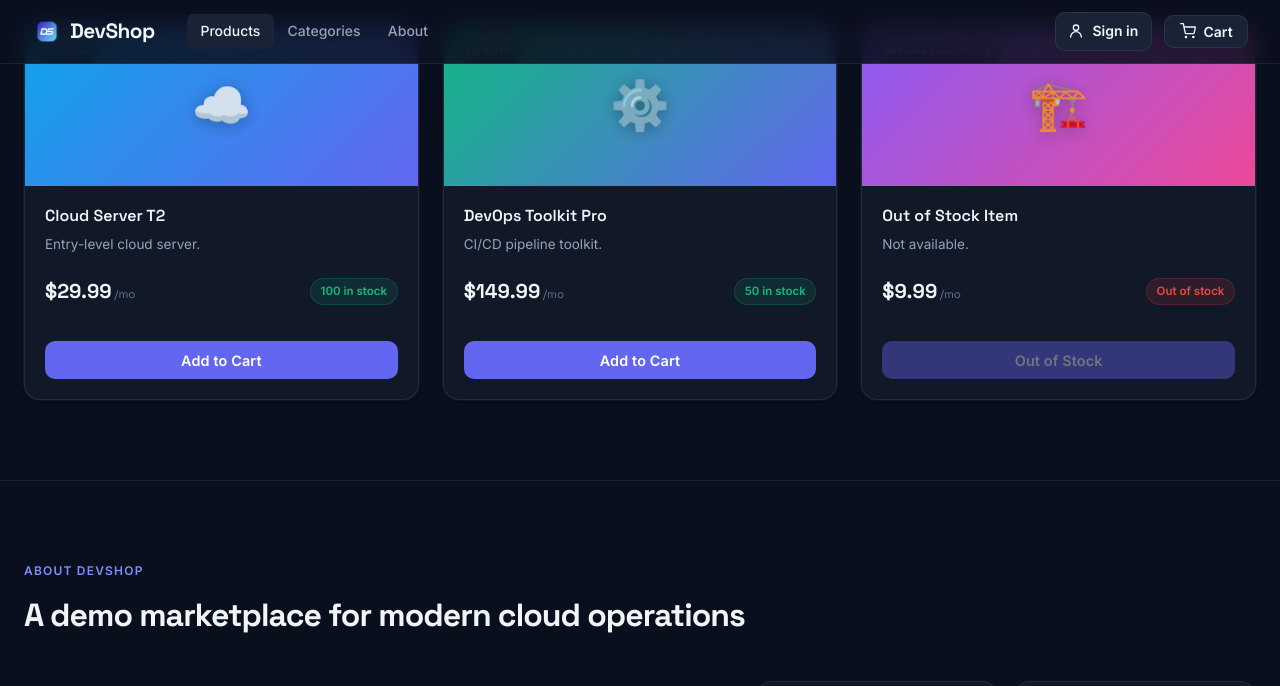
Shopping cart › adds a product to cart and shows count in badge
(page scrolled)
Expected: the heading "Cloud Server T2" is shown, 45,204 -> 165,226
Click the button "Add to Cart" below "29.99" at (221,360), box 45,341 -> 398,380
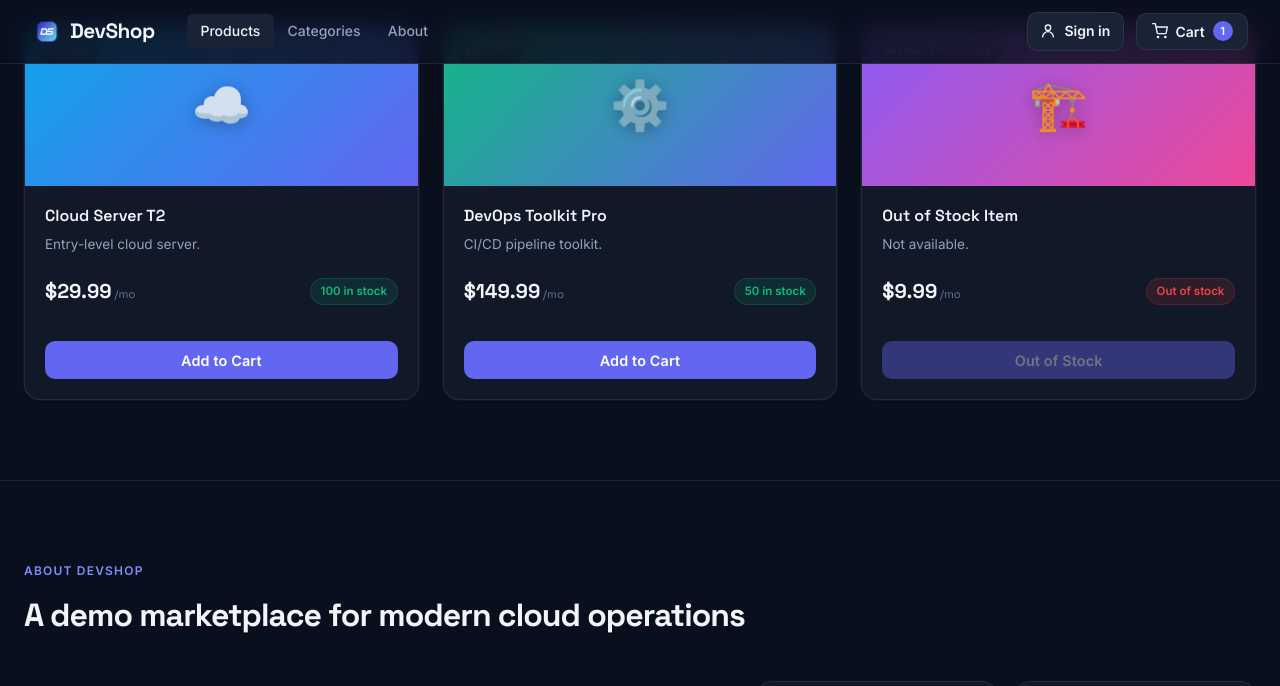
Result: the text with class "navbar__cart-badge" reads "1" at 1220,24 -> 1225,38
